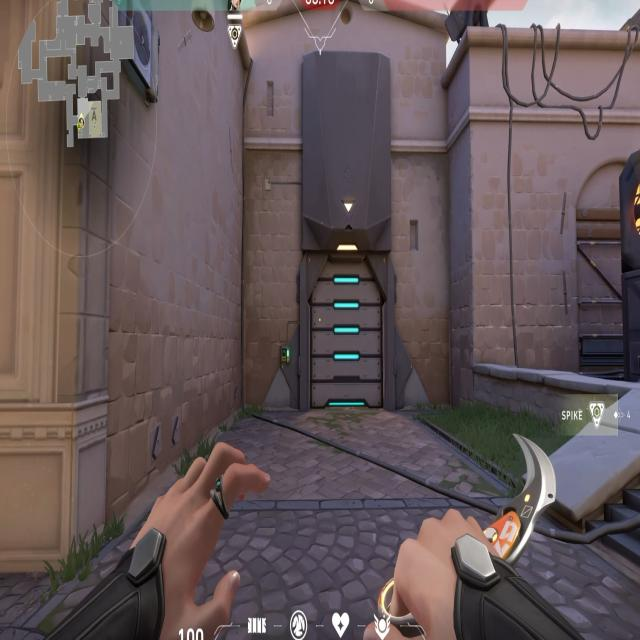A_Door: (304, 254, 389, 406)
